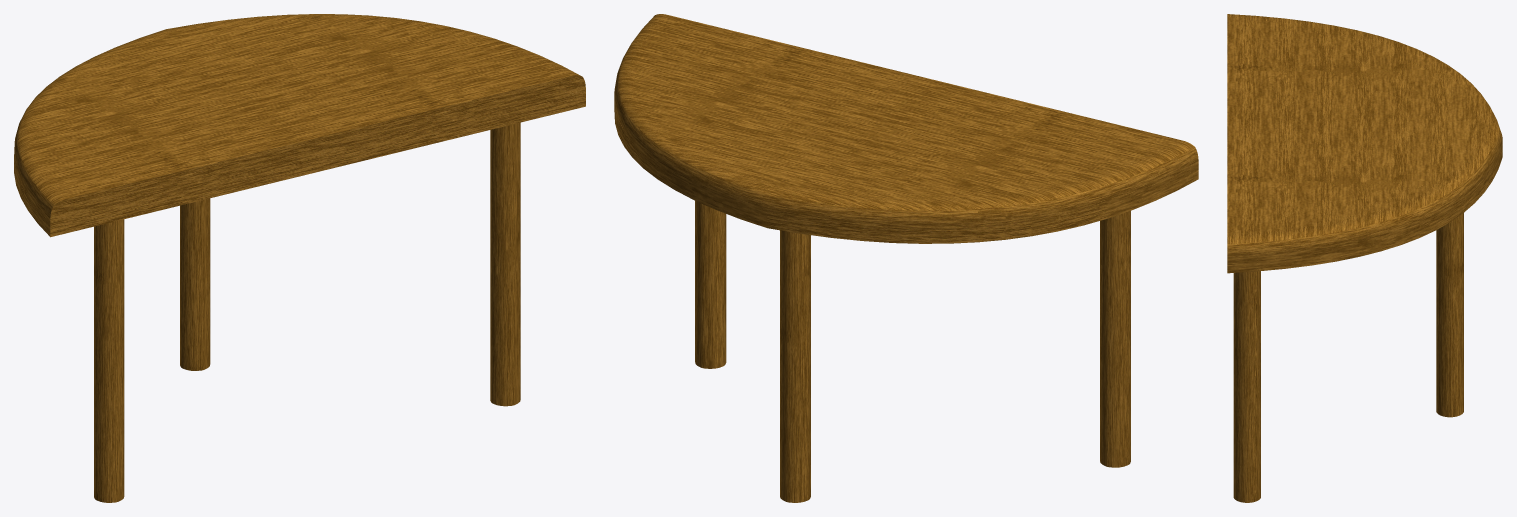
File: HalfMoonTable.FBX
3 views of the same model, side by side, from view 1: azimuth 30°, elevation 25°; view 2: azimuth 150°, elevation 25°; view 3: azimuth 270°, elevation 25° (orthographic). The views are drawn at different scales.
Parts seen in each view (by area): view 1: Box001, Box002, Box003, Box004; view 2: Box001, Box004, Box003, Box002; view 3: Box001, Box002, Box004.
Boxes of the visible parts, x1=… form: Box001: x1=14, y1=14, x2=585, y2=237; Box002: x1=490, y1=122, x2=520, y2=406; Box003: x1=94, y1=219, x2=124, y2=502; Box004: x1=180, y1=198, x2=210, y2=370; Box001: x1=614, y1=14, x2=1198, y2=243; Box004: x1=780, y1=230, x2=810, y2=502; Box003: x1=1100, y1=211, x2=1130, y2=467; Box002: x1=695, y1=200, x2=726, y2=368; Box001: x1=1227, y1=14, x2=1502, y2=273; Box002: x1=1233, y1=271, x2=1260, y2=502; Box004: x1=1436, y1=213, x2=1463, y2=417.
Bounding box in the file's own units: 100 × 56.91 × 49.97.
1 material, 1 textured.
